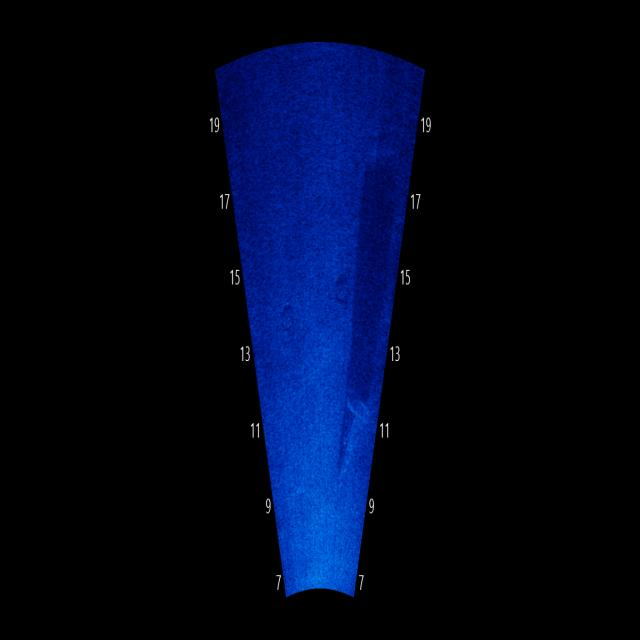triangle: (329, 386, 371, 480)
